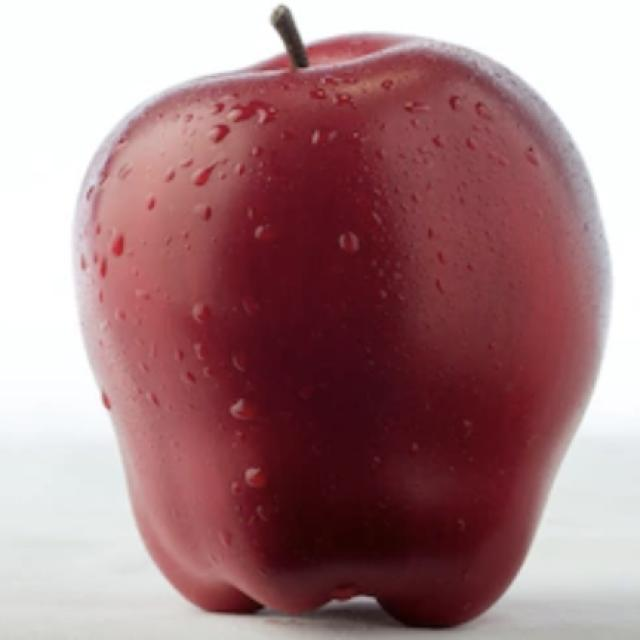Apple: (70, 3, 613, 628)
